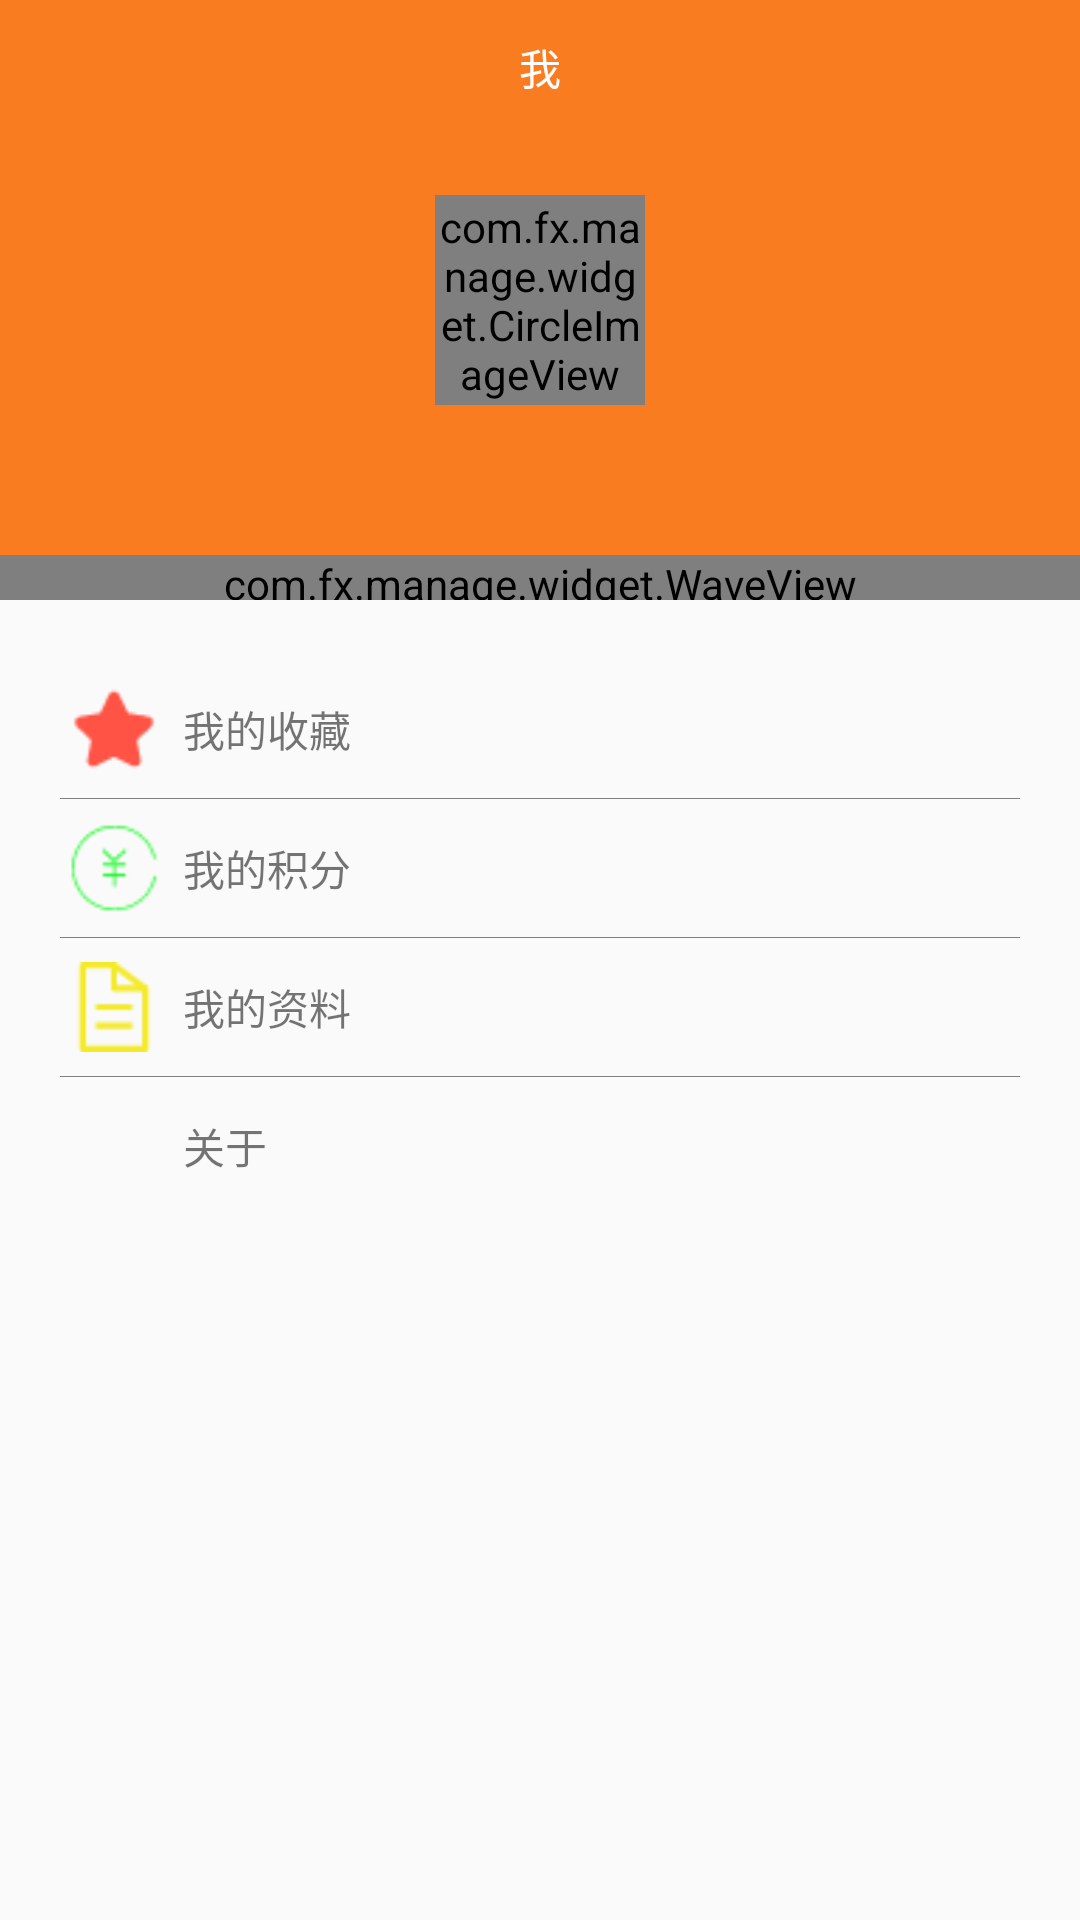

Where icons sit on this 1080×1920 app screen, as (x1,y1,x2,y2):
jifen: (71,825,157,911)
shoucang: (74,690,154,768)
ziliao: (77,962,151,1052)
